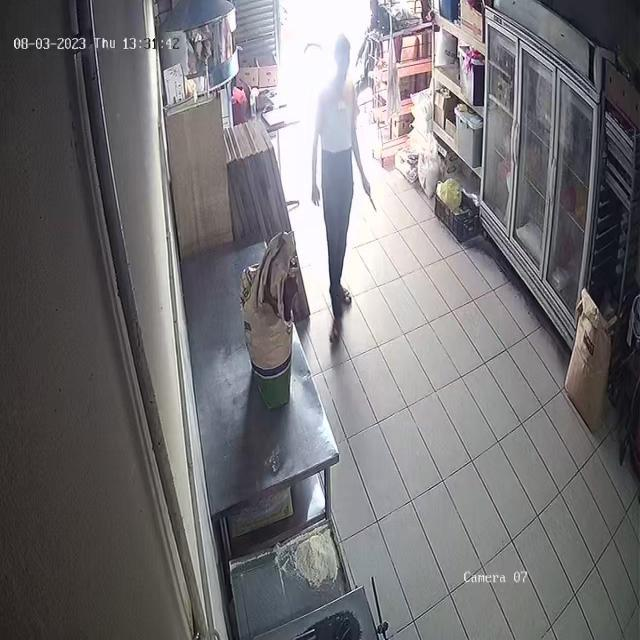Knife: (356, 174, 384, 226)
